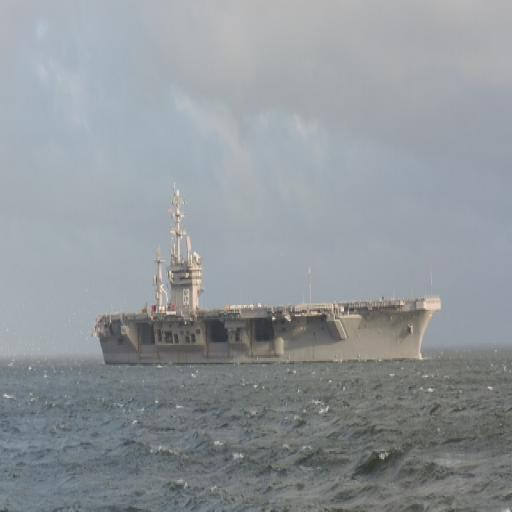Portanaves: (95, 179, 443, 370)
